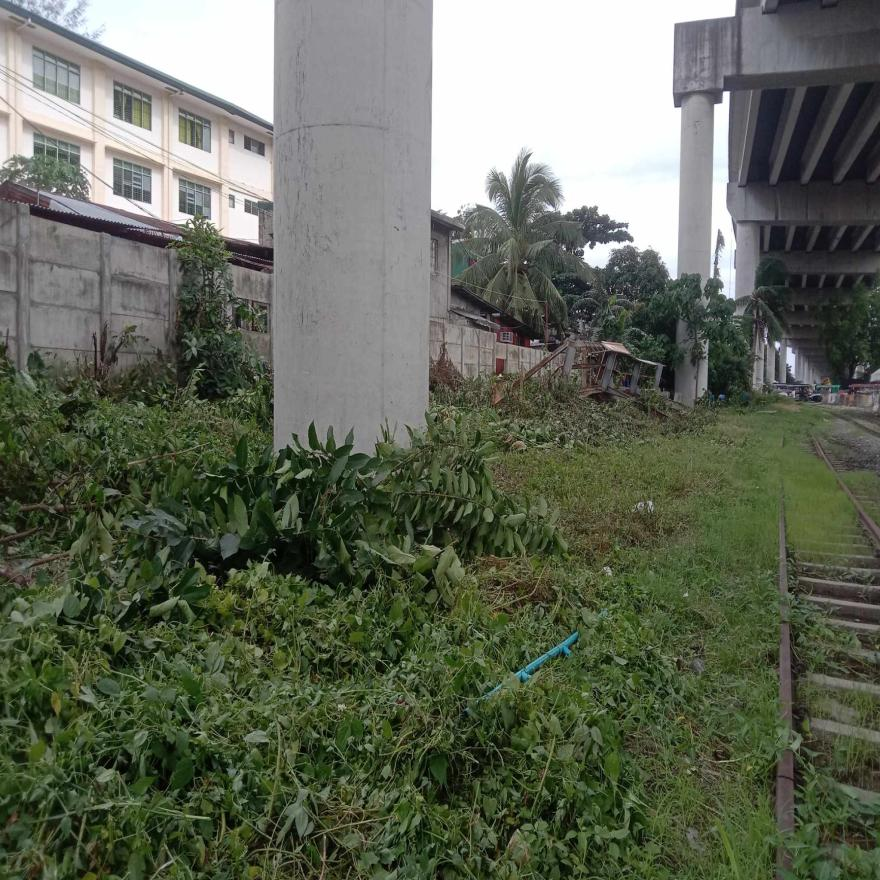railway-gap: (742, 733, 827, 829)
